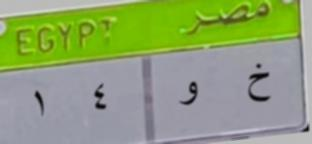1: (27, 85, 49, 122)
4: (86, 79, 115, 115)
khaa: (243, 61, 273, 108)
waw: (178, 77, 201, 113)
